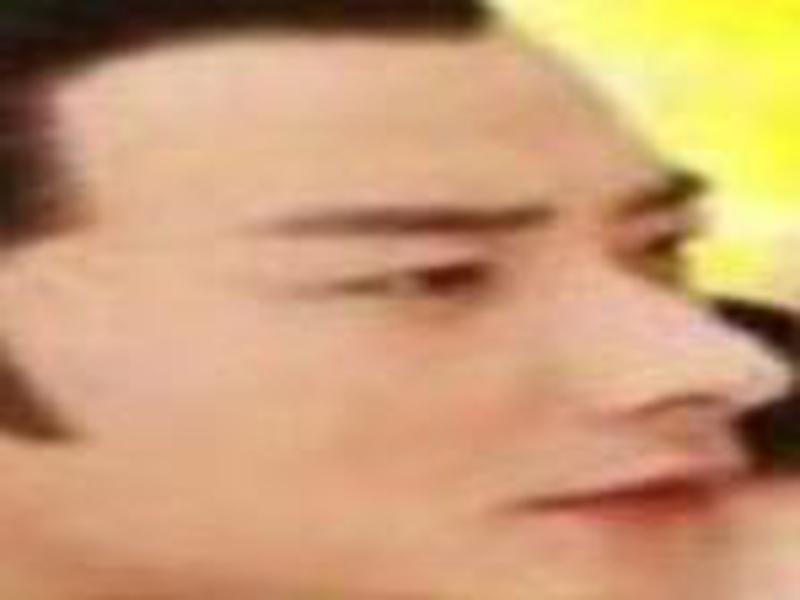without_mask: (25, 40, 791, 600)
